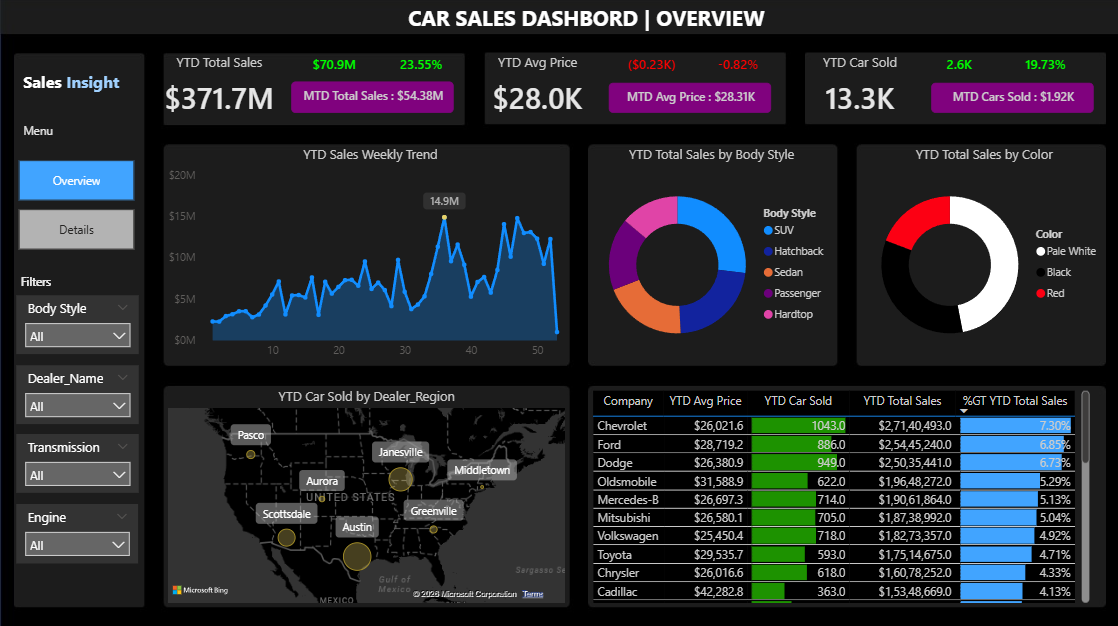

What the dashboard file says about the page in this screenshot:
{"tool":"powerbi","page":{"name":"Overview","canvas":[1280,720],"ordinal":0},"visuals":[{"type":"card","title":"YTD Total Sales","fields":{"Values":["car_data.YTD Total Sales"]},"box":[168.6,61.4,164.3,82.9],"z":0},{"type":"card","fields":{"Values":["car_data.Sales Difference"]},"box":[332.9,62.9,98.6,28.6],"z":1000},{"type":"card","fields":{"Values":["car_data.YoY Sales Growth"]},"box":[431.4,62.9,100,28.6],"z":2000},{"type":"card","fields":{"Values":["car_data.MTD KPI"]},"box":[332.9,94.3,185.7,35.7],"z":3000},{"type":"card","title":"YTD Avg Price","fields":{"Values":["car_data.YTD Avg Price"]},"box":[532.9,61.4,162.9,82.9],"z":4000},{"type":"card","fields":{"Values":["car_data.Avg Price Diff"]},"box":[695.7,62.9,98.6,28.6],"z":5000},{"type":"card","fields":{"Values":["car_data.YoY Avg Price Growth"]},"box":[794.3,62.9,98.6,28.6],"z":6000},{"type":"card","fields":{"Values":["car_data.MTD Avg Price KPI"]},"box":[695.7,95.7,185.7,34.3],"z":7000},{"type":"card","title":"YTD Car Sold","fields":{"Values":["car_data.YTD Car Soldo"]},"box":[901.4,61.4,162.9,82.9],"z":8000},{"type":"card","fields":{"Values":["car_data.Cars Sold Diff"]},"box":[1047.1,62.9,98.6,28.6],"z":9000},{"type":"card","fields":{"Values":["car_data.YoY Car Sold Growth"]},"box":[1145.7,62.9,98.6,28.6],"z":10000},{"type":"card","fields":{"Values":["car_data.MTD Cars Sold KPI"]},"box":[1064.3,95.7,185.7,34.3],"z":11000},{"type":"areaChart","title":"YTD Sales Weekly Trend","fields":{"Category":["Calendar Table.Week"],"Y":["Sum(car_data.Price ($))","car_data.MAX Point"]},"box":[187.8,167.8,472.2,253.3],"z":12000},{"type":"donutChart","fields":{"Category":["car_data.Body Style"],"Y":["car_data.YTD Total Sales"]},"box":[671.2,167.5,283.8,253.8],"z":13000},{"type":"donutChart","fields":{"Y":["car_data.YTD Total Sales"],"Category":["car_data.Color"]},"box":[982.5,167.5,283.8,253.8],"z":14000},{"type":"map","fields":{"Category":["car_data.Dealer_Region"],"Size":["car_data.YTD Car Sold"]},"box":[187.5,442.5,463.8,252.5],"z":15000},{"type":"tableEx","fields":{"Values":["car_data.Company","car_data.YTD Avg Price","car_data.YTD Car Sold","car_data.YTD Total Sales1","car_data.YTD Total Sales"]},"box":[671.2,442.5,578.8,252.5],"z":16000},{"type":"textbox","box":[461.2,0,452.5,42.5],"z":17000},{"type":"slicer","fields":{"Values":["car_data.Body Style"]},"box":[18.8,338.8,140,67.5],"z":18000},{"type":"slicer","fields":{"Values":["car_data.Dealer_Name"]},"box":[18.7,418.7,140,67.3],"z":19000},{"type":"slicer","fields":{"Values":["car_data.Transmission"]},"box":[18.7,497.3,140,67.3],"z":20000},{"type":"slicer","fields":{"Values":["car_data.Engine"]},"box":[19.2,577.7,139.2,67.7],"z":21000},{"type":"textbox","box":[18.6,308.6,70,30],"z":22000},{"type":"textbox","box":[18.6,308.6,85.7,30],"z":23000},{"type":"textbox","box":[21.4,77.1,132.9,40],"z":24000},{"type":"textbox","box":[21.4,135.7,67.1,30],"z":25000},{"type":"pageNavigator","box":[21.4,184.3,132.9,102.9],"z":26000}]}

Visuals, with their boxes in screenshot pixels (x1, y1, x2, y2), scaled from the page's 1280x720 canvas onto the 1118x626 screenshot:
"YTD Total Sales" card: [left=147, top=53, right=291, bottom=125]
card - car_data.Sales Difference: [left=291, top=55, right=377, bottom=80]
card - car_data.YoY Sales Growth: [left=377, top=55, right=464, bottom=80]
card - car_data.MTD KPI: [left=291, top=82, right=453, bottom=113]
"YTD Avg Price" card: [left=465, top=53, right=608, bottom=125]
card - car_data.Avg Price Diff: [left=608, top=55, right=694, bottom=80]
card - car_data.YoY Avg Price Growth: [left=694, top=55, right=780, bottom=80]
card - car_data.MTD Avg Price KPI: [left=608, top=83, right=770, bottom=113]
"YTD Car Sold" card: [left=787, top=53, right=930, bottom=125]
card - car_data.Cars Sold Diff: [left=915, top=55, right=1001, bottom=80]
card - car_data.YoY Car Sold Growth: [left=1001, top=55, right=1087, bottom=80]
card - car_data.MTD Cars Sold KPI: [left=930, top=83, right=1092, bottom=113]
"YTD Sales Weekly Trend" areaChart: [left=164, top=146, right=576, bottom=366]
donutChart - car_data.Body Style x car_data.YTD Total Sales: [left=586, top=146, right=834, bottom=366]
donutChart - car_data.YTD Total Sales x car_data.Color: [left=858, top=146, right=1106, bottom=366]
map - car_data.Dealer_Region x car_data.YTD Car Sold: [left=164, top=385, right=569, bottom=604]
tableEx - car_data.Company x car_data.YTD Avg Price: [left=586, top=385, right=1092, bottom=604]
textbox: [left=403, top=0, right=798, bottom=37]
slicer - car_data.Body Style: [left=16, top=295, right=139, bottom=353]
slicer - car_data.Dealer_Name: [left=16, top=364, right=139, bottom=423]
slicer - car_data.Transmission: [left=16, top=432, right=139, bottom=491]
slicer - car_data.Engine: [left=17, top=502, right=138, bottom=561]
textbox: [left=16, top=268, right=77, bottom=294]
textbox: [left=16, top=268, right=91, bottom=294]
textbox: [left=19, top=67, right=135, bottom=102]
textbox: [left=19, top=118, right=77, bottom=144]
pageNavigator: [left=19, top=160, right=135, bottom=250]
